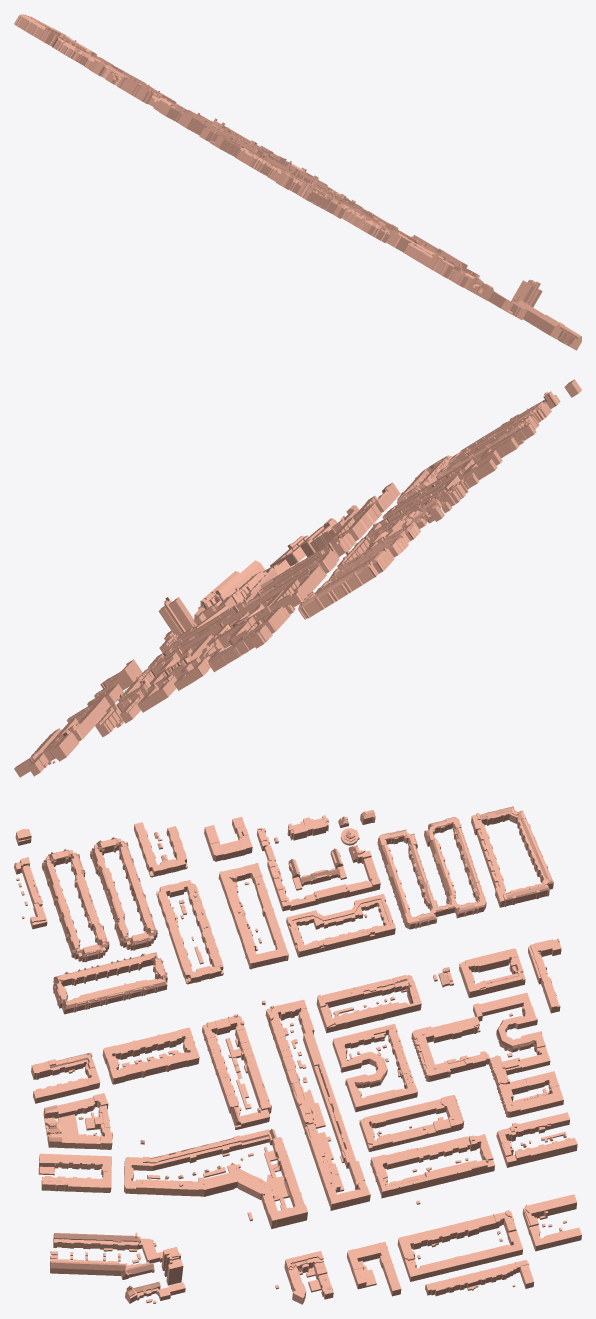
3 renders of one model, top to bottom at view 1: azimuth 30°, elevation 25°; view 2: azimuth 150°, elevation 25°; view 3: azimuth 270°, elevation 25°, orthographic. The views are drawn at different scales.
Bounding box in the file's own units: 1.73e+07 × 1.27e+07 × 2.1e+07.
